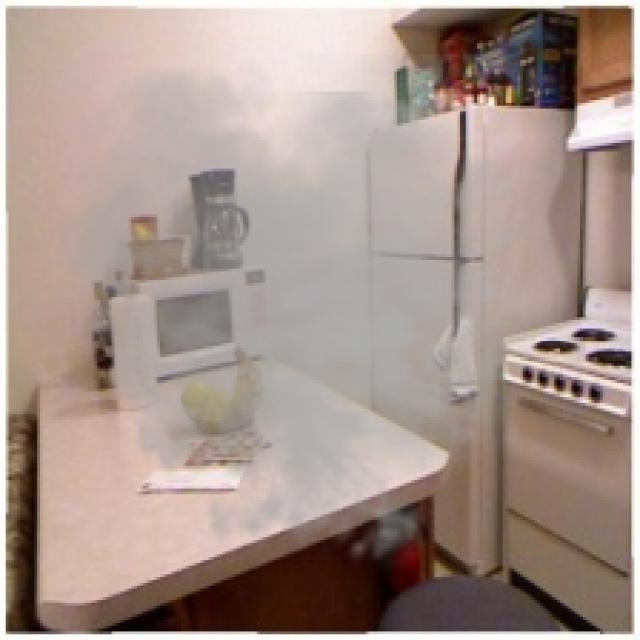Smoke: (40, 54, 563, 577)
